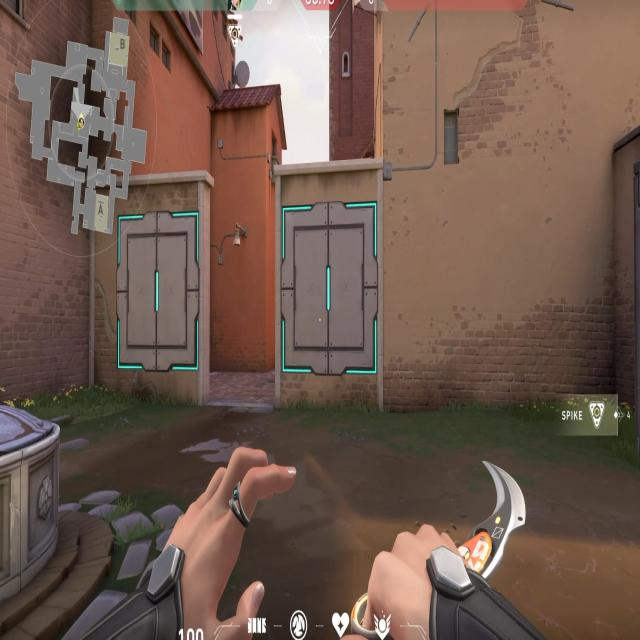Mid_Wall: (105, 173, 384, 417)
